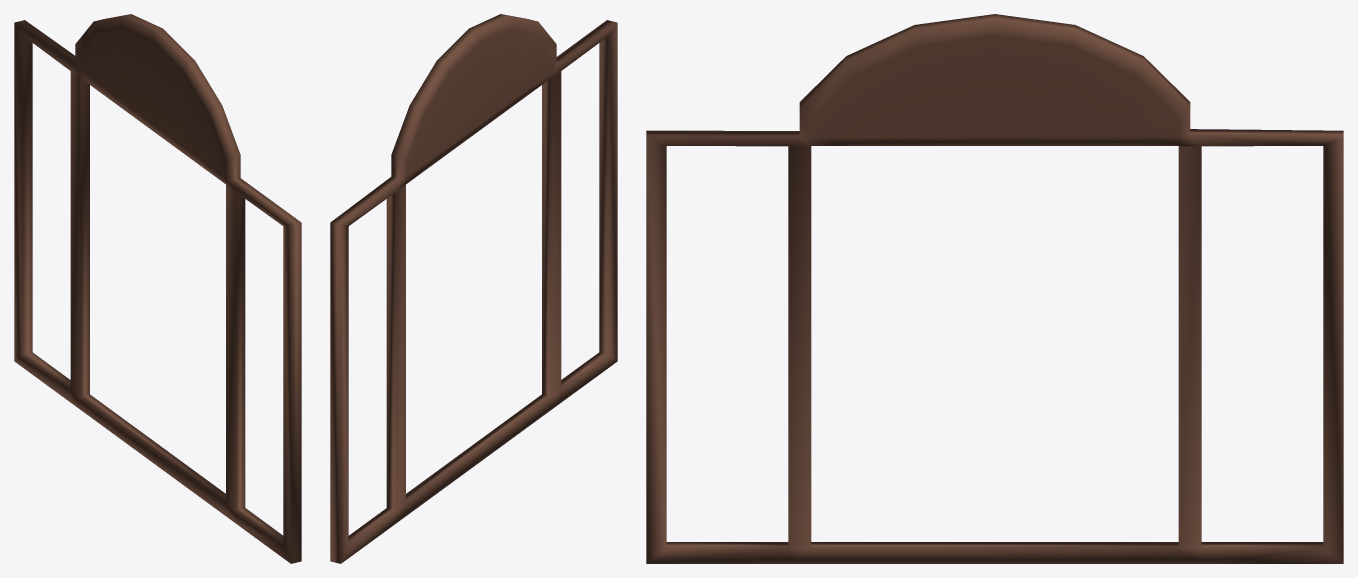
File: dormtwindow.obj
3 renders of one model, left to right at view 1: azimuth 30°, elevation 25°; view 2: azimuth 150°, elevation 25°; view 3: azimuth 270°, elevation 25°, orthographic. The views are drawn at different scales.
Visible parts, largest first — view 1: polySurface197; view 2: polySurface197; view 3: polySurface197.
Boxes of the visible parts, bbox=[...] form: polySurface197: bbox=[14, 14, 301, 563]; polySurface197: bbox=[330, 14, 617, 563]; polySurface197: bbox=[646, 14, 1343, 563].
Bounding box in the file's own units: 5.98 × 187 × 218.
Materials: 1 (1 with a texture image).
